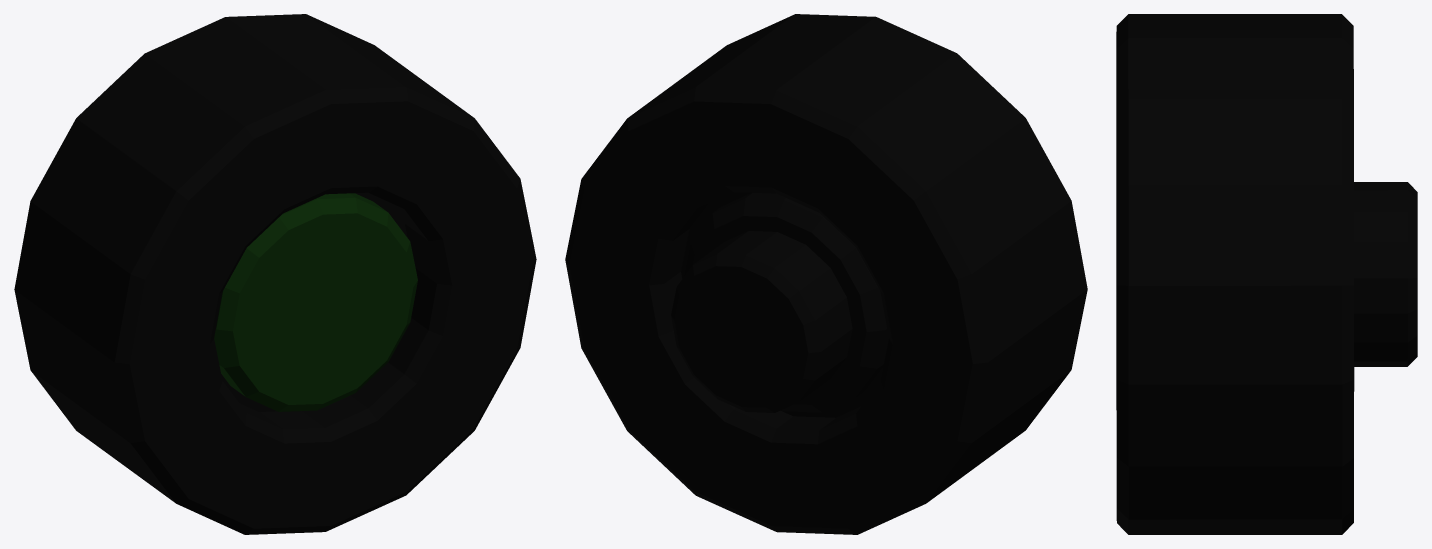
The model's file is Simba_Wheel.fbx.
3 views of the same model, side by side, from view 1: azimuth 30°, elevation 25°; view 2: azimuth 150°, elevation 25°; view 3: azimuth 270°, elevation 25° (orthographic). The views are drawn at different scales.
Visible parts, largest first — view 1: Simba_Wheel; view 2: Simba_Wheel; view 3: Simba_Wheel.
Part boxes in pixels (x1=…): Simba_Wheel: x1=14, y1=14, x2=536, y2=534; Simba_Wheel: x1=565, y1=14, x2=1087, y2=534; Simba_Wheel: x1=1116, y1=14, x2=1417, y2=534.
Bounding box in the file's own units: 128 × 128 × 74.07.
